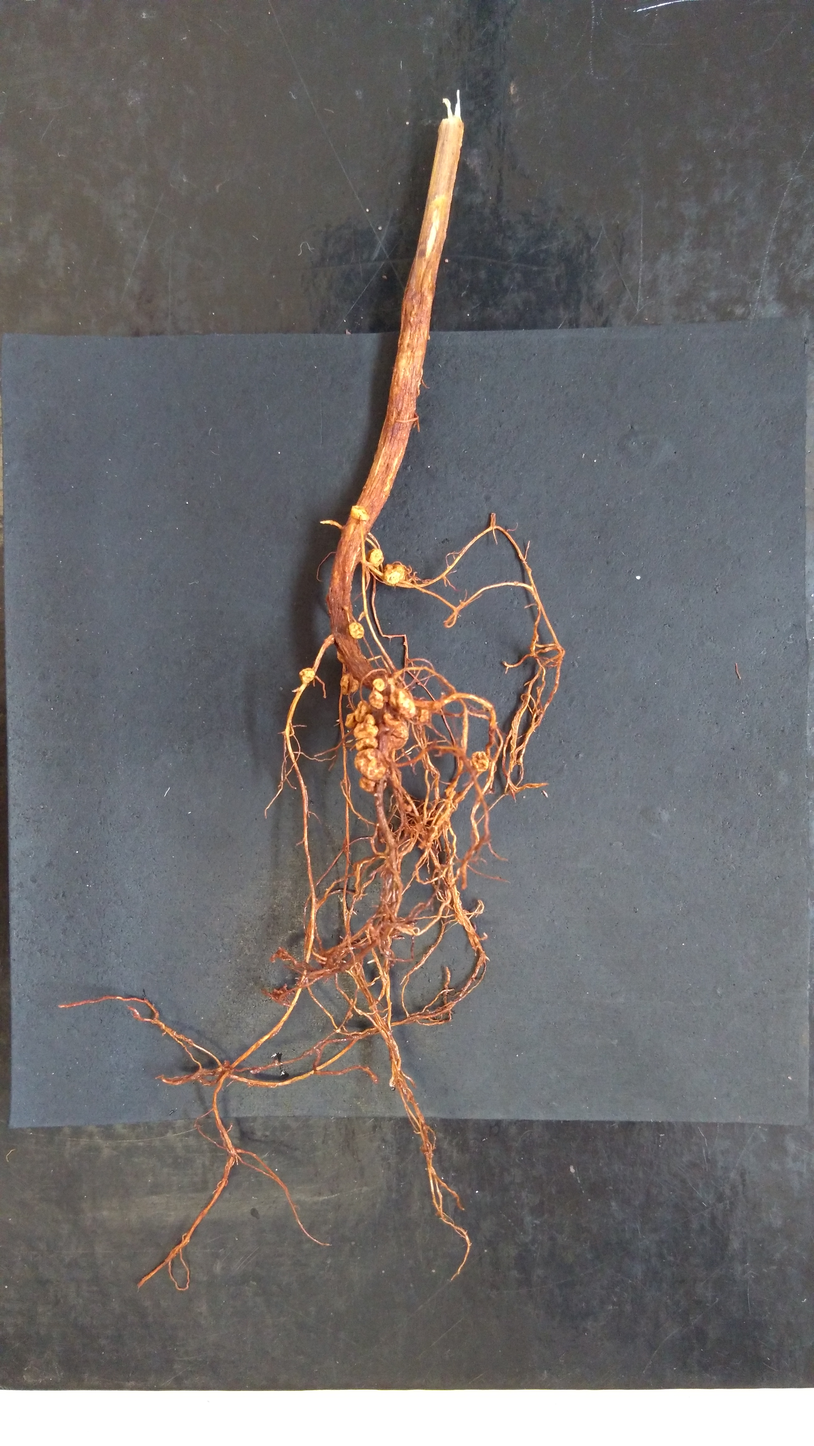nodule: (353, 745, 388, 781), (380, 711, 411, 751), (392, 686, 417, 719), (383, 563, 409, 586), (338, 673, 360, 696), (351, 721, 380, 738), (353, 699, 371, 724), (350, 504, 370, 524), (365, 548, 385, 568), (472, 750, 490, 772), (297, 667, 317, 686), (352, 737, 380, 750), (348, 620, 366, 640), (356, 775, 376, 793), (367, 690, 385, 710), (344, 711, 357, 729), (362, 713, 378, 727), (371, 677, 385, 692), (419, 707, 431, 723), (336, 650, 346, 663)
